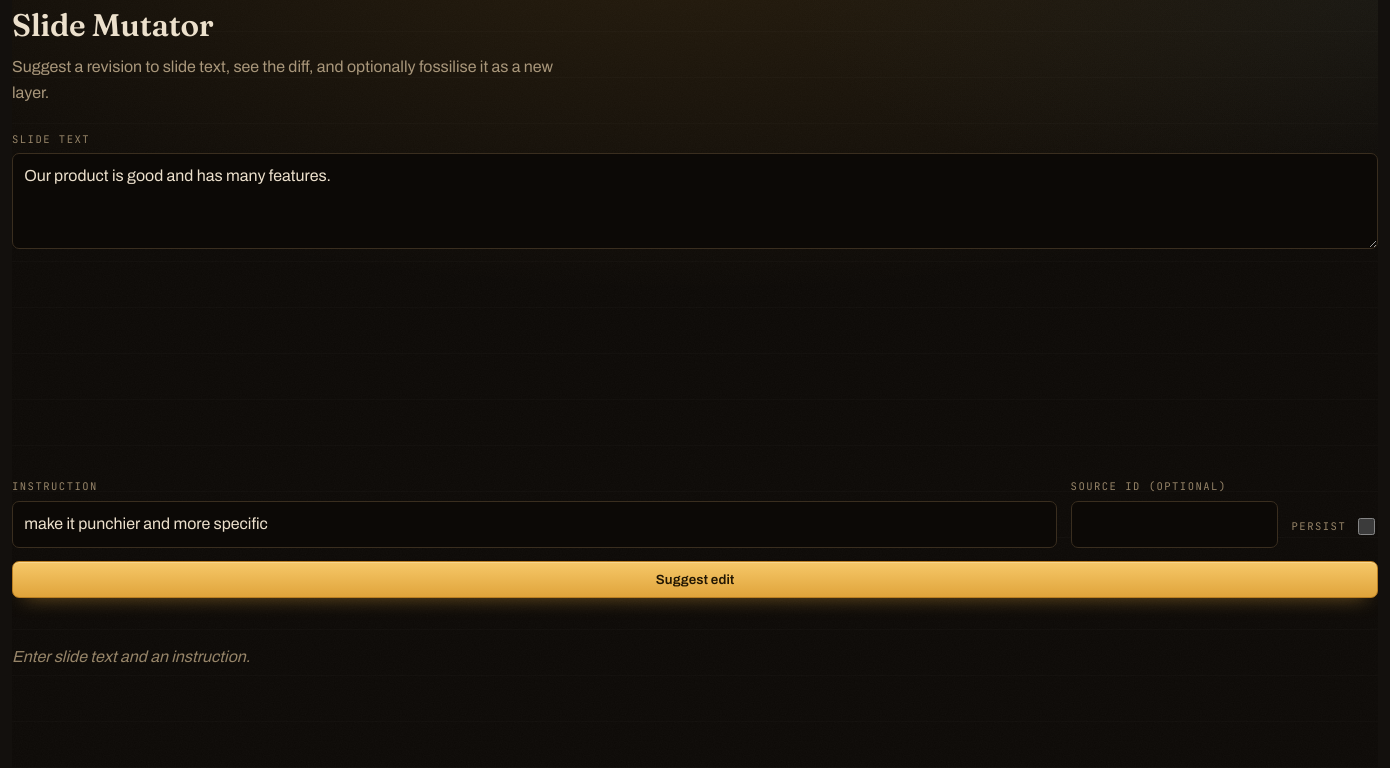
Test: SlideMutatePanel › surfaces an LLM error
What coordinates should you click on to do the following:
click the button "Suggest edit"
I would click on:
 (695, 580)
Its box is [12,561,1378,598].
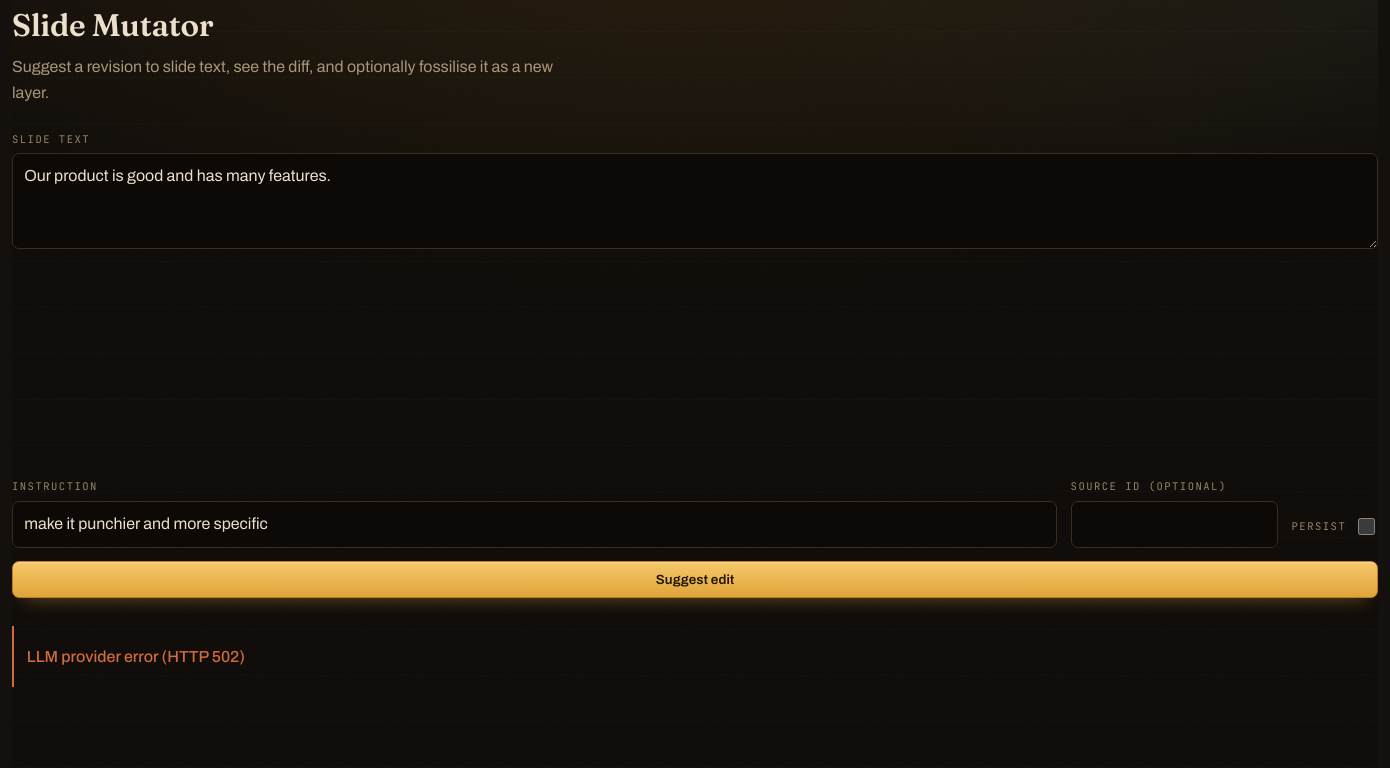
Expected: the message shows "LLM provider error", [27,648,245,664]
